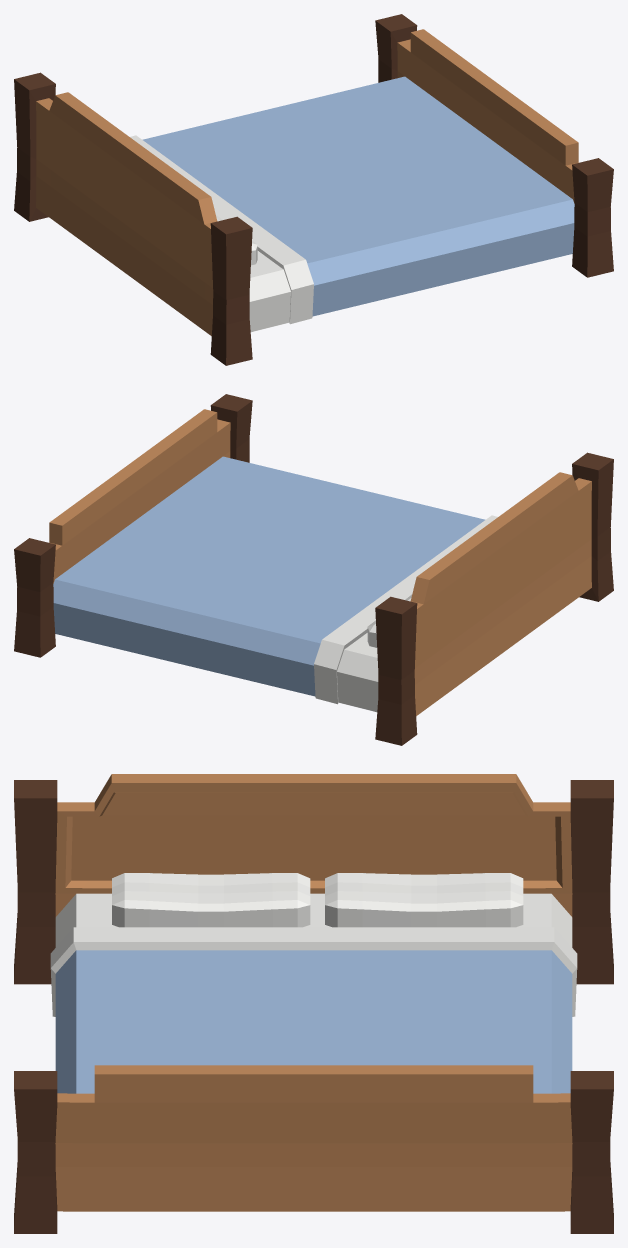
File: BedKing.glb
3 views of the same model, one above another, from view 1: azimuth 30°, elevation 25°; view 2: azimuth 150°, elevation 25°; view 3: azimuth 270°, elevation 25° (orthographic). The views are drawn at different scales.
Size of the model in its own units: 1.43 by 0.4898 by 1.35.
